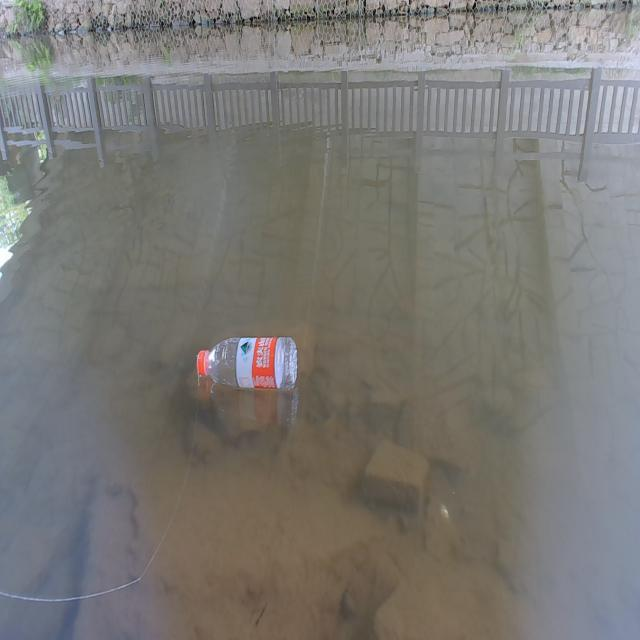bottle: (174, 305, 313, 421)
